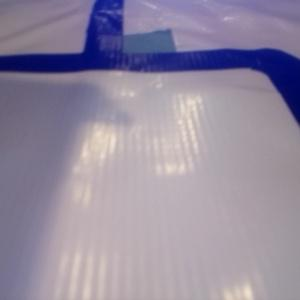top_right: (91, 28, 177, 68)
